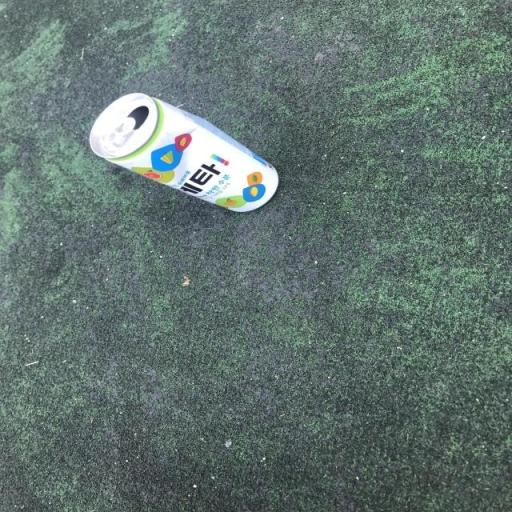metal: (71, 86, 308, 240)
